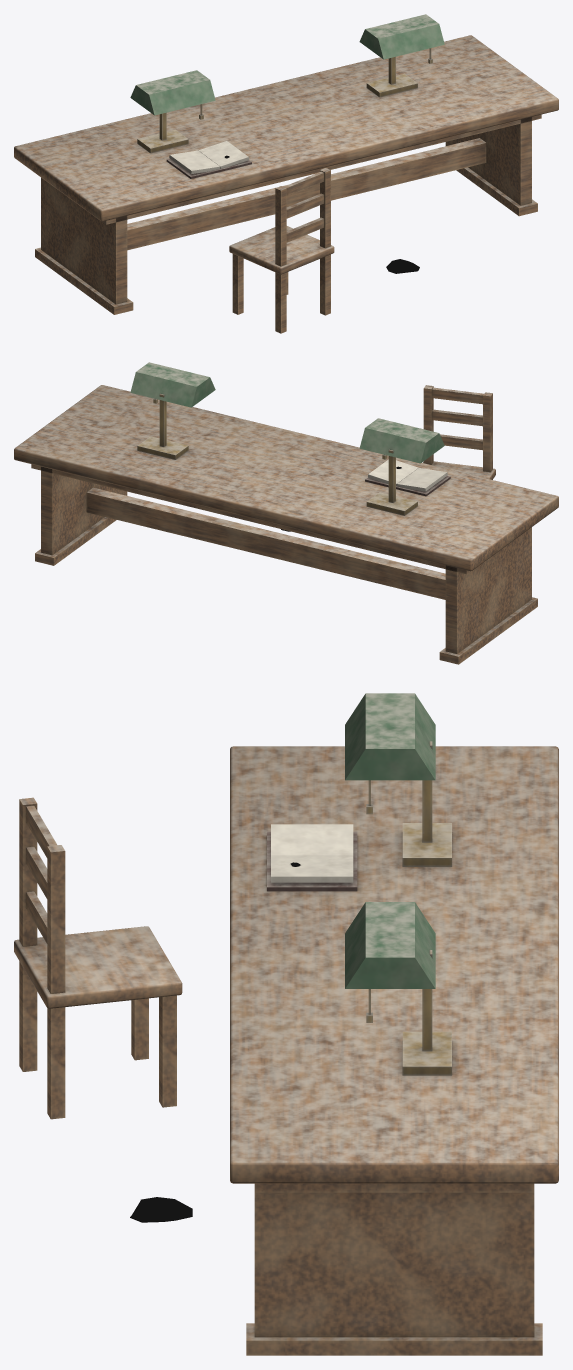
File: reading_desk.fbx
3 renders of one model, top to bottom at view 1: azimuth 30°, elevation 25°; view 2: azimuth 150°, elevation 25°; view 3: azimuth 270°, elevation 25°, orthographic. The views are drawn at different scales.
Visible parts, largest first — view 1: Body; view 2: Body; view 3: Body.
Part boxes in pixels (x1,y1,x2,y2): Body: [14, 14, 558, 333]; Body: [14, 362, 558, 664]; Body: [14, 693, 558, 1355].
Size of the model in its own units: 12 by 4.52 by 6.62.
Materials: 1 (1 with a texture image).
